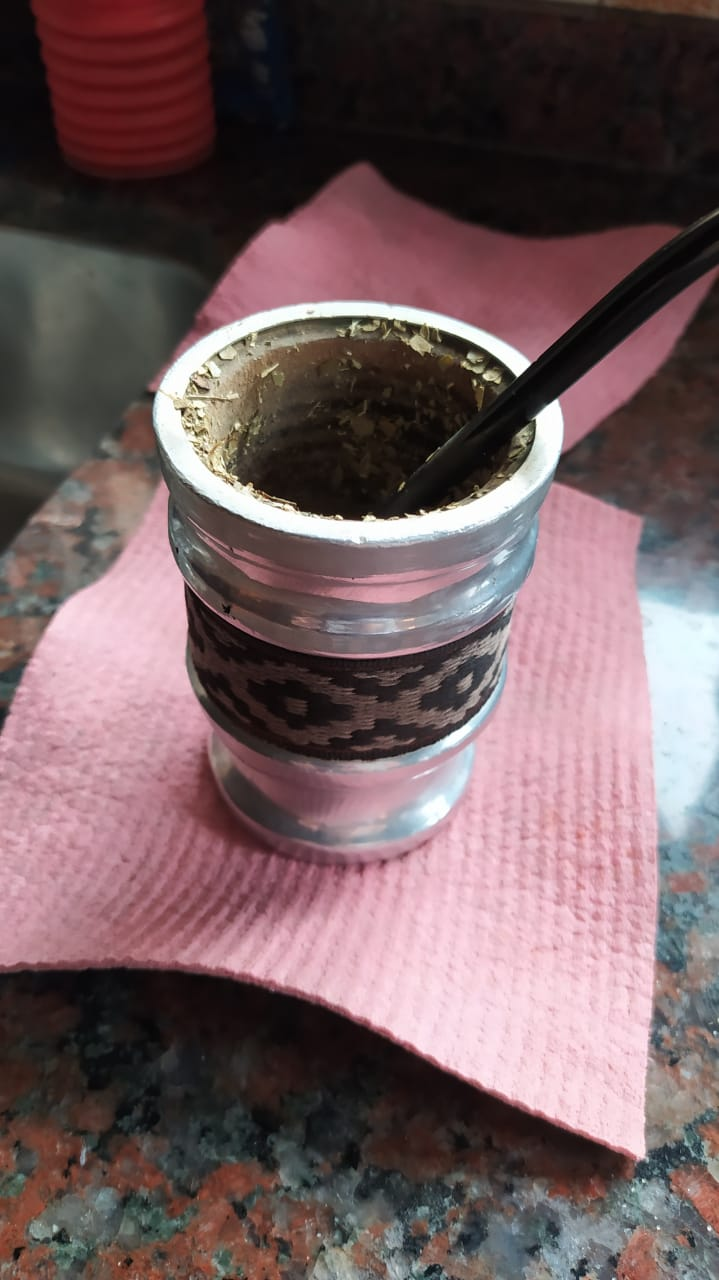mate: (116, 201, 696, 890)
metal: (114, 199, 694, 888)
